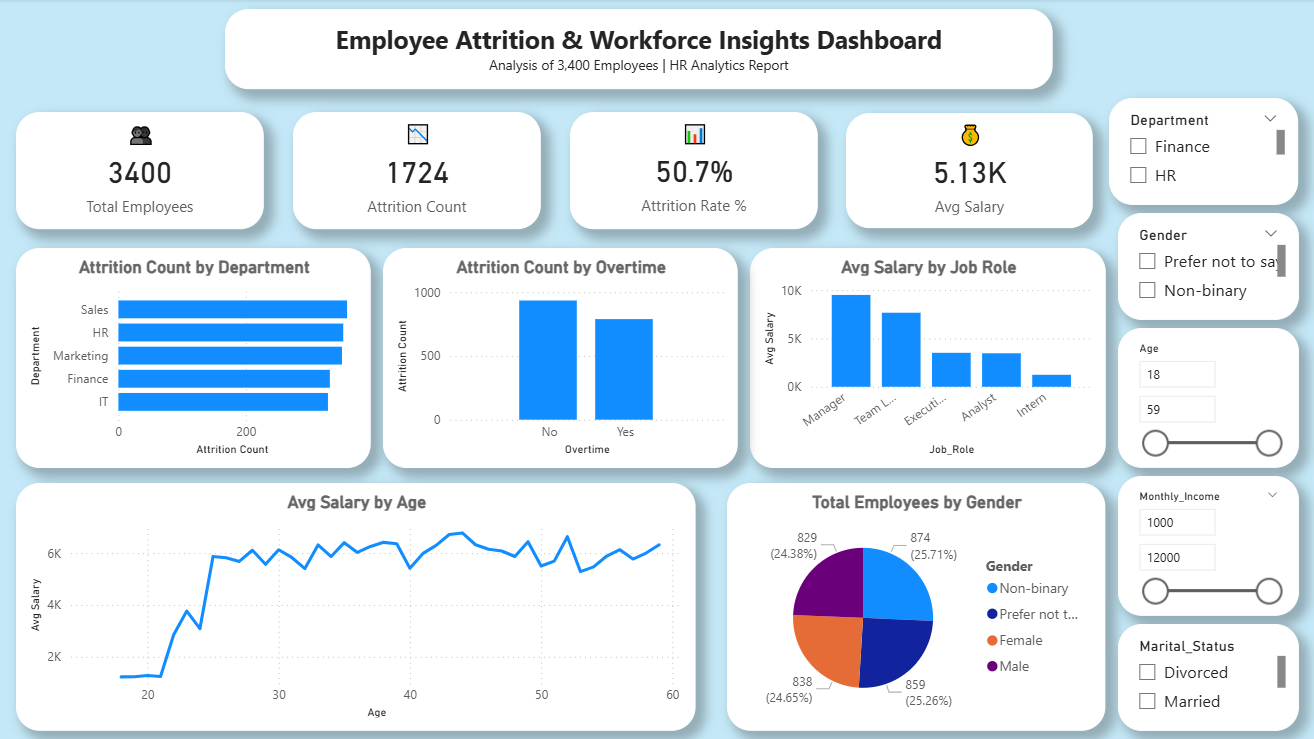

Layout of this report page (visuals, bound fields, positions):
{"tool":"powerbi","page":{"name":"Page 1","canvas":[1280,720],"ordinal":0},"visuals":[{"type":"card","title":"👥","fields":{"Values":["hr_employee_dataset.Total Employees"]},"box":[17,109.5,241,114],"z":0},{"type":"card","title":"📉","fields":{"Values":["hr_employee_dataset.Attrition Count"]},"box":[286,109.5,241,114],"z":1000},{"type":"card","title":"📊","fields":{"Values":["hr_employee_dataset.Attrition Rate %"]},"box":[555,109.5,241,114],"z":2000},{"type":"card","title":"💰","fields":{"Values":["hr_employee_dataset.Avg Salary"]},"box":[824,110.5,240,112],"z":3000},{"type":"barChart","fields":{"Category":["hr_employee_dataset.Department"],"Y":["hr_employee_dataset.Attrition Count"]},"box":[17,242,345,214],"z":4000},{"type":"clusteredColumnChart","title":"Avg Salary by Job Role","fields":{"Category":["hr_employee_dataset.Job_Role"],"Y":["hr_employee_dataset.Avg Salary"]},"box":[730,242,346,214],"z":5000},{"type":"pieChart","fields":{"Category":["hr_employee_dataset.Gender"],"Y":["hr_employee_dataset.Total Employees"]},"box":[708.1,470.8,367.7,241.2],"z":6000},{"type":"columnChart","fields":{"Category":["hr_employee_dataset.Overtime"],"Y":["hr_employee_dataset.Attrition Count"]},"box":[373.5,242,345,214],"z":7000},{"type":"lineChart","fields":{"Category":["hr_employee_dataset.Age"],"Y":["hr_employee_dataset.Avg Salary"]},"box":[16.5,470.8,661.4,241.2],"z":8000},{"type":"slicer","fields":{"Values":["hr_employee_dataset.Department"]},"box":[1080,96,184,104],"z":9000},{"type":"slicer","fields":{"Values":["hr_employee_dataset.Gender"]},"box":[1088,208,176,104],"z":10000},{"type":"slicer","fields":{"Values":["hr_employee_dataset.Age"]},"box":[1088,320,176,136],"z":11000},{"type":"slicer","fields":{"Values":["hr_employee_dataset.Monthly_Income"]},"box":[1088,464,176,136],"z":12000},{"type":"slicer","fields":{"Values":["hr_employee_dataset.Marital_Status"]},"box":[1088,608,176,104],"z":13000},{"type":"textbox","box":[220,10,805,78],"z":14000}]}

Visuals, with their boxes in screenshot pixels (x1, y1, x2, y2), scaled from the page's 1280x720 canvas onto the 1314x739 screenshot:
"👥" card: bbox(17, 112, 265, 229)
"📉" card: bbox(294, 112, 541, 229)
"📊" card: bbox(570, 112, 817, 229)
"💰" card: bbox(846, 113, 1092, 228)
barChart - hr_employee_dataset.Department x hr_employee_dataset.Attrition Count: bbox(17, 248, 372, 468)
"Avg Salary by Job Role" clusteredColumnChart: bbox(749, 248, 1105, 468)
pieChart - hr_employee_dataset.Gender x hr_employee_dataset.Total Employees: bbox(727, 483, 1104, 731)
columnChart - hr_employee_dataset.Overtime x hr_employee_dataset.Attrition Count: bbox(383, 248, 738, 468)
lineChart - hr_employee_dataset.Age x hr_employee_dataset.Avg Salary: bbox(17, 483, 696, 731)
slicer - hr_employee_dataset.Department: bbox(1109, 99, 1298, 205)
slicer - hr_employee_dataset.Gender: bbox(1117, 213, 1298, 320)
slicer - hr_employee_dataset.Age: bbox(1117, 328, 1298, 468)
slicer - hr_employee_dataset.Monthly_Income: bbox(1117, 476, 1298, 616)
slicer - hr_employee_dataset.Marital_Status: bbox(1117, 624, 1298, 731)
textbox: bbox(226, 10, 1052, 90)
